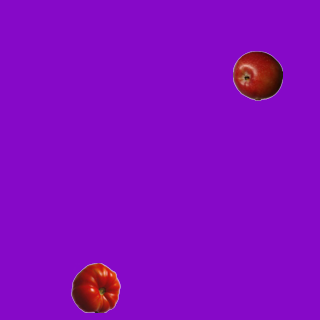Apple Braeburn: (232, 50, 282, 100)
Tomato 3: (70, 262, 120, 312)
